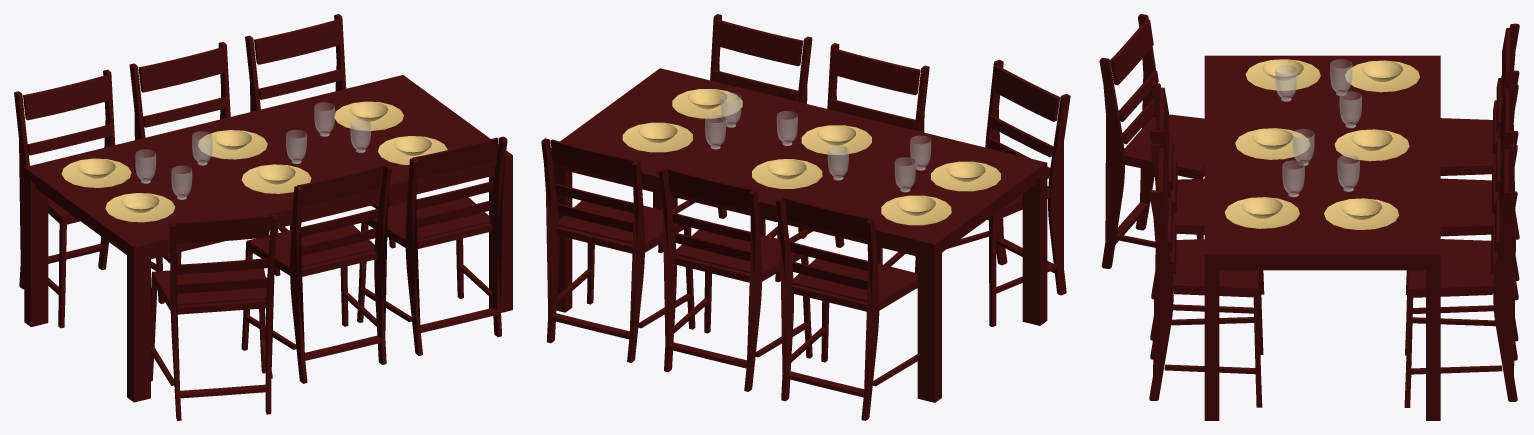
The model's file is Markor_Dining_Table-3D.DAE.
3 renders of one model, left to right at view 1: azimuth 30°, elevation 25°; view 2: azimuth 150°, elevation 25°; view 3: azimuth 270°, elevation 25°, orthographic. The views are drawn at different scales.
Visible parts, largest first — view 1: Box01, Object06, Object05, Object07, Object02, Object03, Object04, Rectangle06, Rectangle05, Rectangle07, Rectangle08, Rectangle04 (+7 smaller); view 2: Box01, Object04, Object03, Object02, Object07, Object05, Object06, Rectangle06, Rectangle08, Rectangle05, Rectangle07, Rectangle04 (+7 smaller); view 3: Box01, Object07, Object04, Object05, Object03, Object02, Object06, Rectangle03, Rectangle07, Rectangle08, Rectangle06, Rectangle04 (+7 smaller).
Part boxes in pixels (<box>): Box01: <box>24,75,512,402</box>; Object06: <box>241,164,391,383</box>; Object05: <box>357,136,507,355</box>; Object07: <box>151,215,277,420</box>; Object02: <box>14,69,164,328</box>; Object03: <box>129,42,280,276</box>; Object04: <box>245,14,395,248</box>; Rectangle06: <box>61,158,131,187</box>; Rectangle05: <box>105,193,175,222</box>; Rectangle07: <box>198,130,267,159</box>; Rectangle08: <box>334,101,403,130</box>; Rectangle04: <box>241,164,311,193</box>; Box01: <box>551,68,1047,402</box>; Object04: <box>541,138,695,362</box>; Object03: <box>658,167,812,391</box>; Object02: <box>775,196,917,420</box>; Object07: <box>915,59,1070,326</box>; Object05: <box>658,14,812,253</box>; Object06: <box>775,43,929,282</box>; Rectangle06: <box>881,195,951,225</box>; Rectangle08: <box>622,122,692,152</box>; Rectangle05: <box>931,161,1000,191</box>; Rectangle07: <box>752,159,822,188</box>; Rectangle04: <box>801,125,871,154</box>; Box01: <box>1204,55,1440,420</box>; Object07: <box>1099,14,1204,268</box>; Object04: <box>1404,144,1517,407</box>; Object05: <box>1149,143,1263,407</box>; Object03: <box>1405,84,1518,341</box>; Object02: <box>1440,23,1519,280</box>; Object06: <box>1150,83,1264,340</box>; Rectangle03: <box>1225,197,1299,228</box>; Rectangle07: <box>1334,129,1409,161</box>; Rectangle08: <box>1324,198,1398,229</box>; Rectangle06: <box>1345,60,1419,92</box>; Rectangle04: <box>1235,128,1309,159</box>.
Bounding box in the file's own units: 1893 × 942 × 1690.
